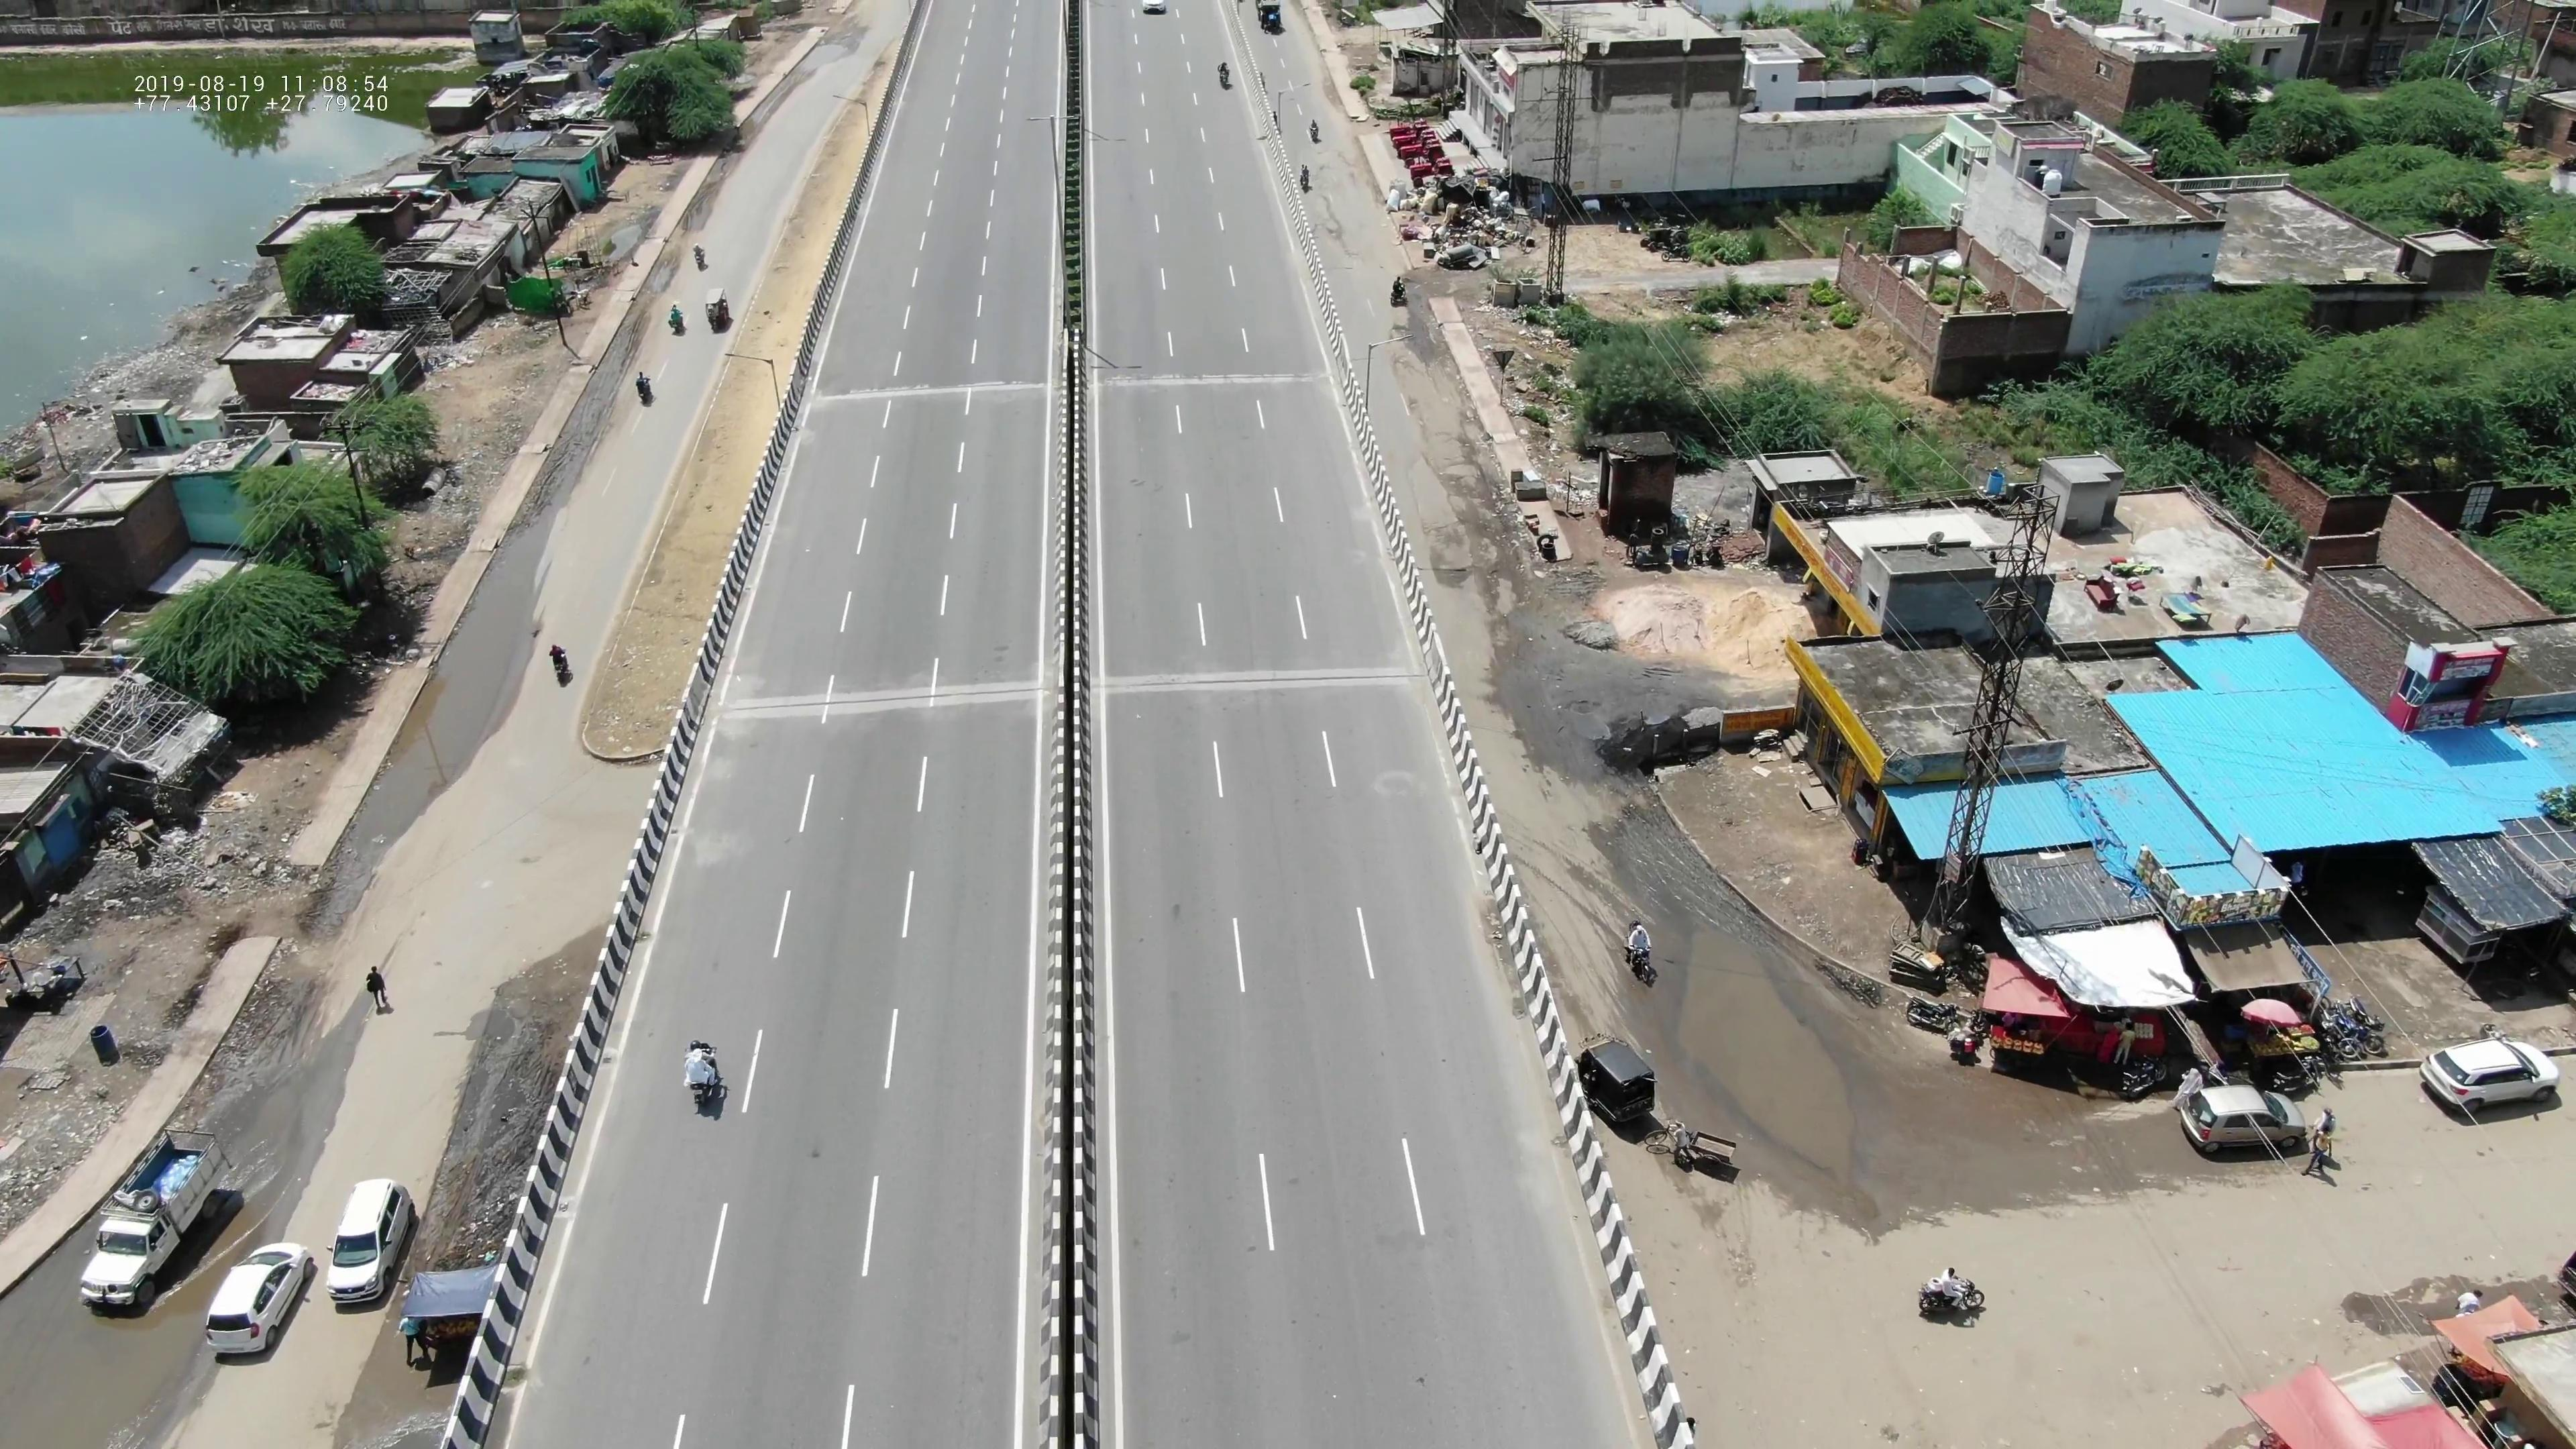Waterlogging: (1672, 932, 1872, 1191), (361, 587, 529, 830)
